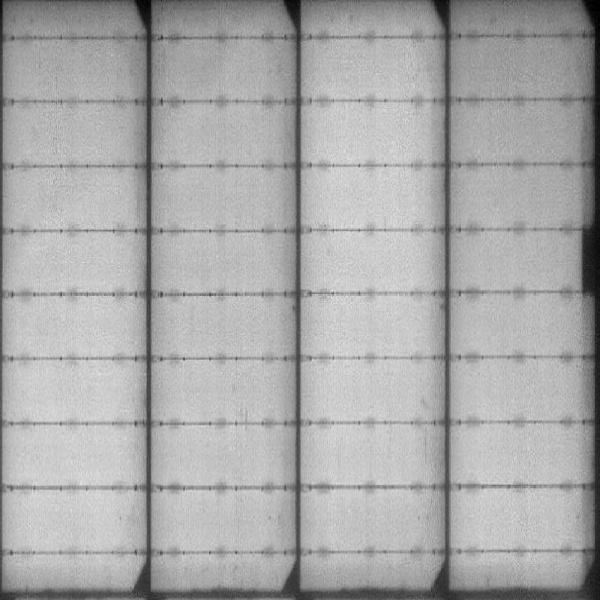black_border: (576, 221, 600, 298)
